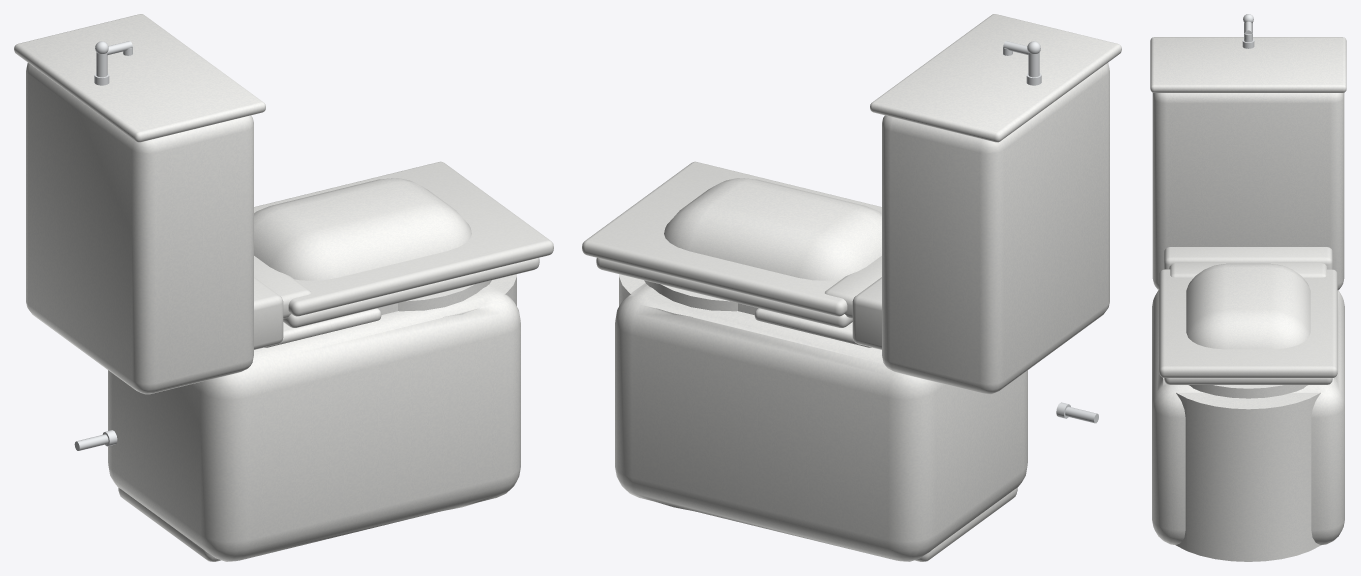
File: amage-toilet.glb
3 views of the same model, side by side, from view 1: azimuth 30°, elevation 25°; view 2: azimuth 150°, elevation 25°; view 3: azimuth 270°, elevation 25° (orthographic). The views are drawn at different scales.
Parts seen in each view (by area): view 1: Hero_AmageBowl, Hero_AmageTank, WashRim, Lid_panel, Seat_slab, Hero_AmageUnit, RimDeck, Lid_hinge_cover, RimFront, Foot; view 2: Hero_AmageBowl, Hero_AmageTank, WashRim, Lid_panel, Seat_slab, Hero_AmageUnit, RimDeck, Lid_hinge_cover, RimFront, Foot; view 3: Hero_AmageBowl, Hero_AmageTank, WashRim, Lid_panel, Hero_AmageUnit, RimFront, Seat_slab, Lid_hinge_cover.
Boxes of the visible parts, x1,y1,x2,y2 form: Hero_AmageBowl: [108, 178, 520, 561]; Hero_AmageTank: [26, 63, 253, 394]; WashRim: [14, 14, 265, 142]; Lid_panel: [254, 161, 553, 316]; Seat_slab: [283, 258, 539, 327]; Hero_AmageUnit: [254, 277, 283, 349]; RimDeck: [264, 308, 381, 347]; Lid_hinge_cover: [254, 256, 310, 318]; RimFront: [398, 280, 491, 311]; Foot: [118, 488, 220, 561]; Hero_AmageBowl: [615, 178, 1027, 561]; Hero_AmageTank: [882, 63, 1109, 394]; WashRim: [870, 14, 1121, 142]; Lid_panel: [582, 161, 881, 316]; Seat_slab: [596, 258, 852, 327]; Hero_AmageUnit: [852, 277, 881, 349]; RimDeck: [754, 308, 871, 347]; Lid_hinge_cover: [825, 256, 881, 318]; RimFront: [644, 280, 737, 311]; Foot: [915, 488, 1017, 561]; Hero_AmageBowl: [1152, 263, 1344, 561]; Hero_AmageTank: [1152, 93, 1344, 289]; WashRim: [1150, 37, 1346, 92]; Lid_panel: [1159, 269, 1337, 377]; Hero_AmageUnit: [1164, 247, 1332, 269]; RimFront: [1189, 385, 1307, 398]; Seat_slab: [1164, 378, 1332, 384]; Lid_hinge_cover: [1169, 263, 1327, 277].
Bounding box in the file's own units: 0.815 × 0.886 × 0.396.
Materials: 5 (2 with a texture image).
